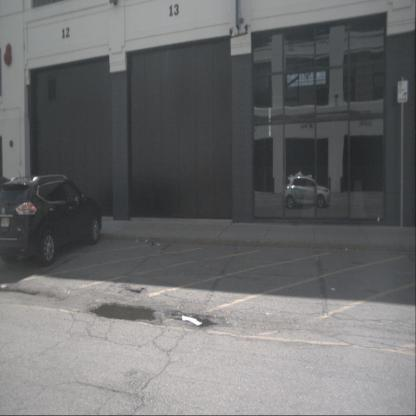vehicle-car: (0, 175, 102, 267), (282, 176, 331, 209)
